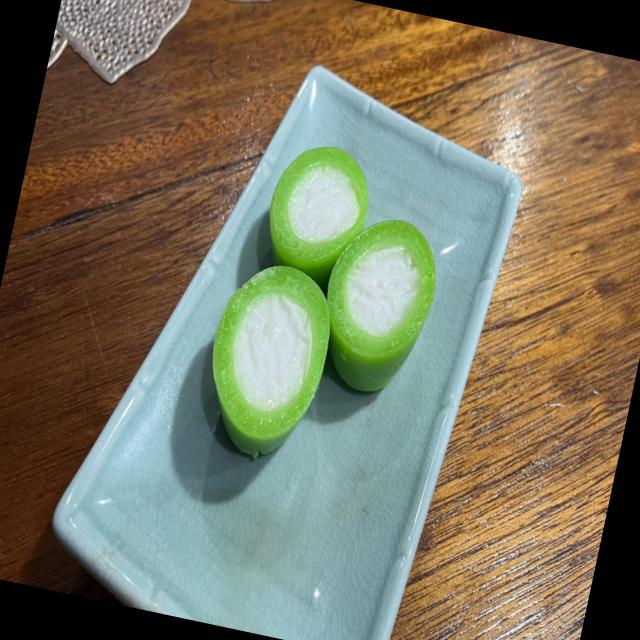nona-manis: (212, 265, 330, 458), (327, 219, 436, 392), (269, 146, 368, 291)
